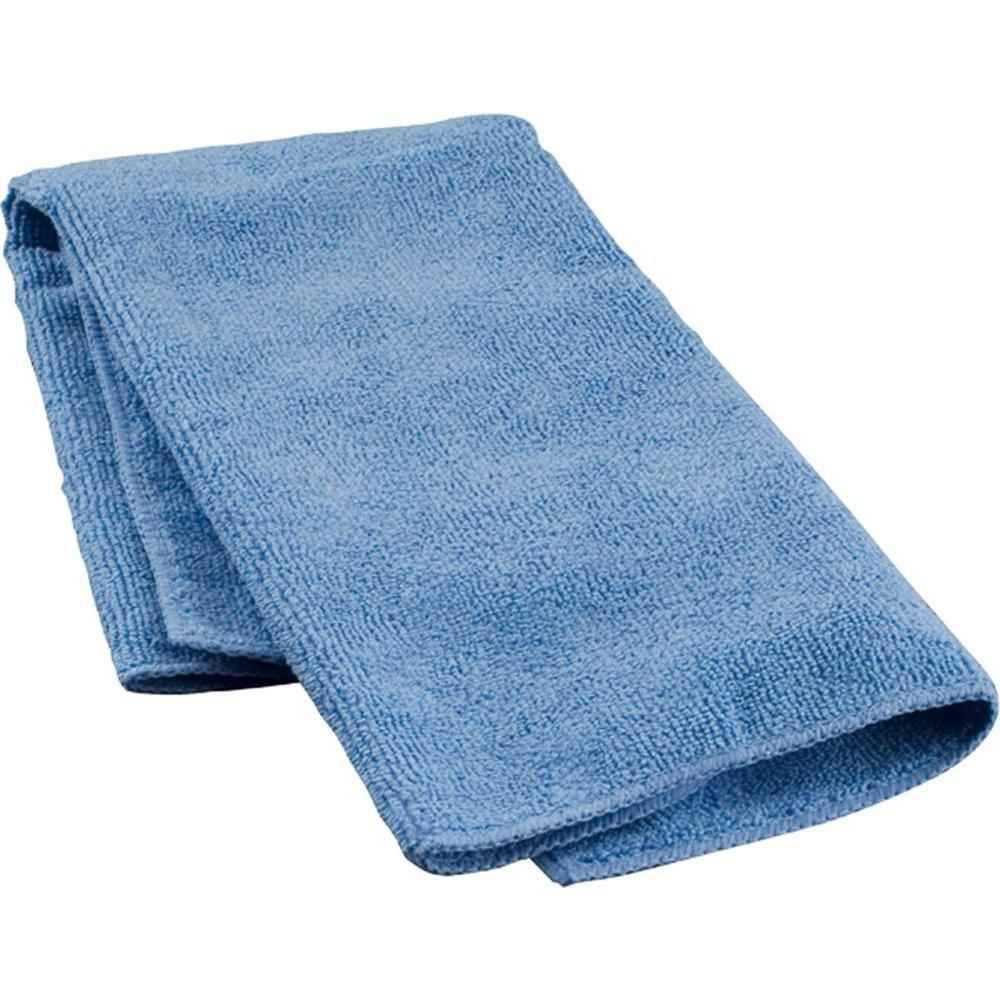towel: (0, 65, 1000, 960)
